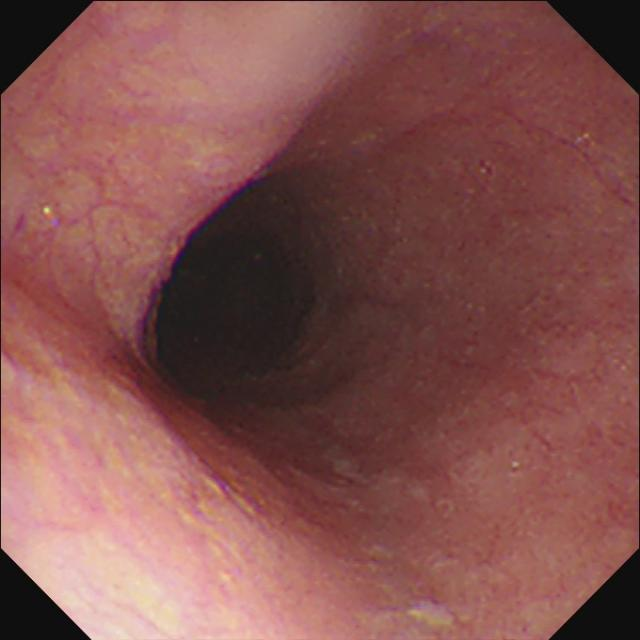E: (121, 168, 361, 419)
